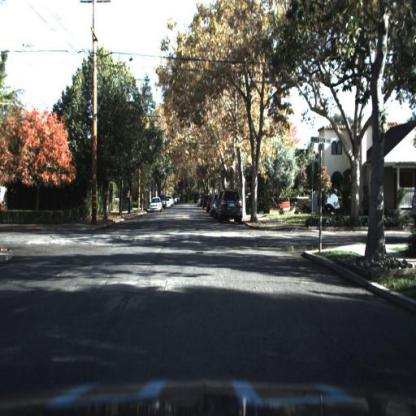car: (301, 183, 345, 220), (218, 190, 245, 226), (149, 195, 163, 214)
